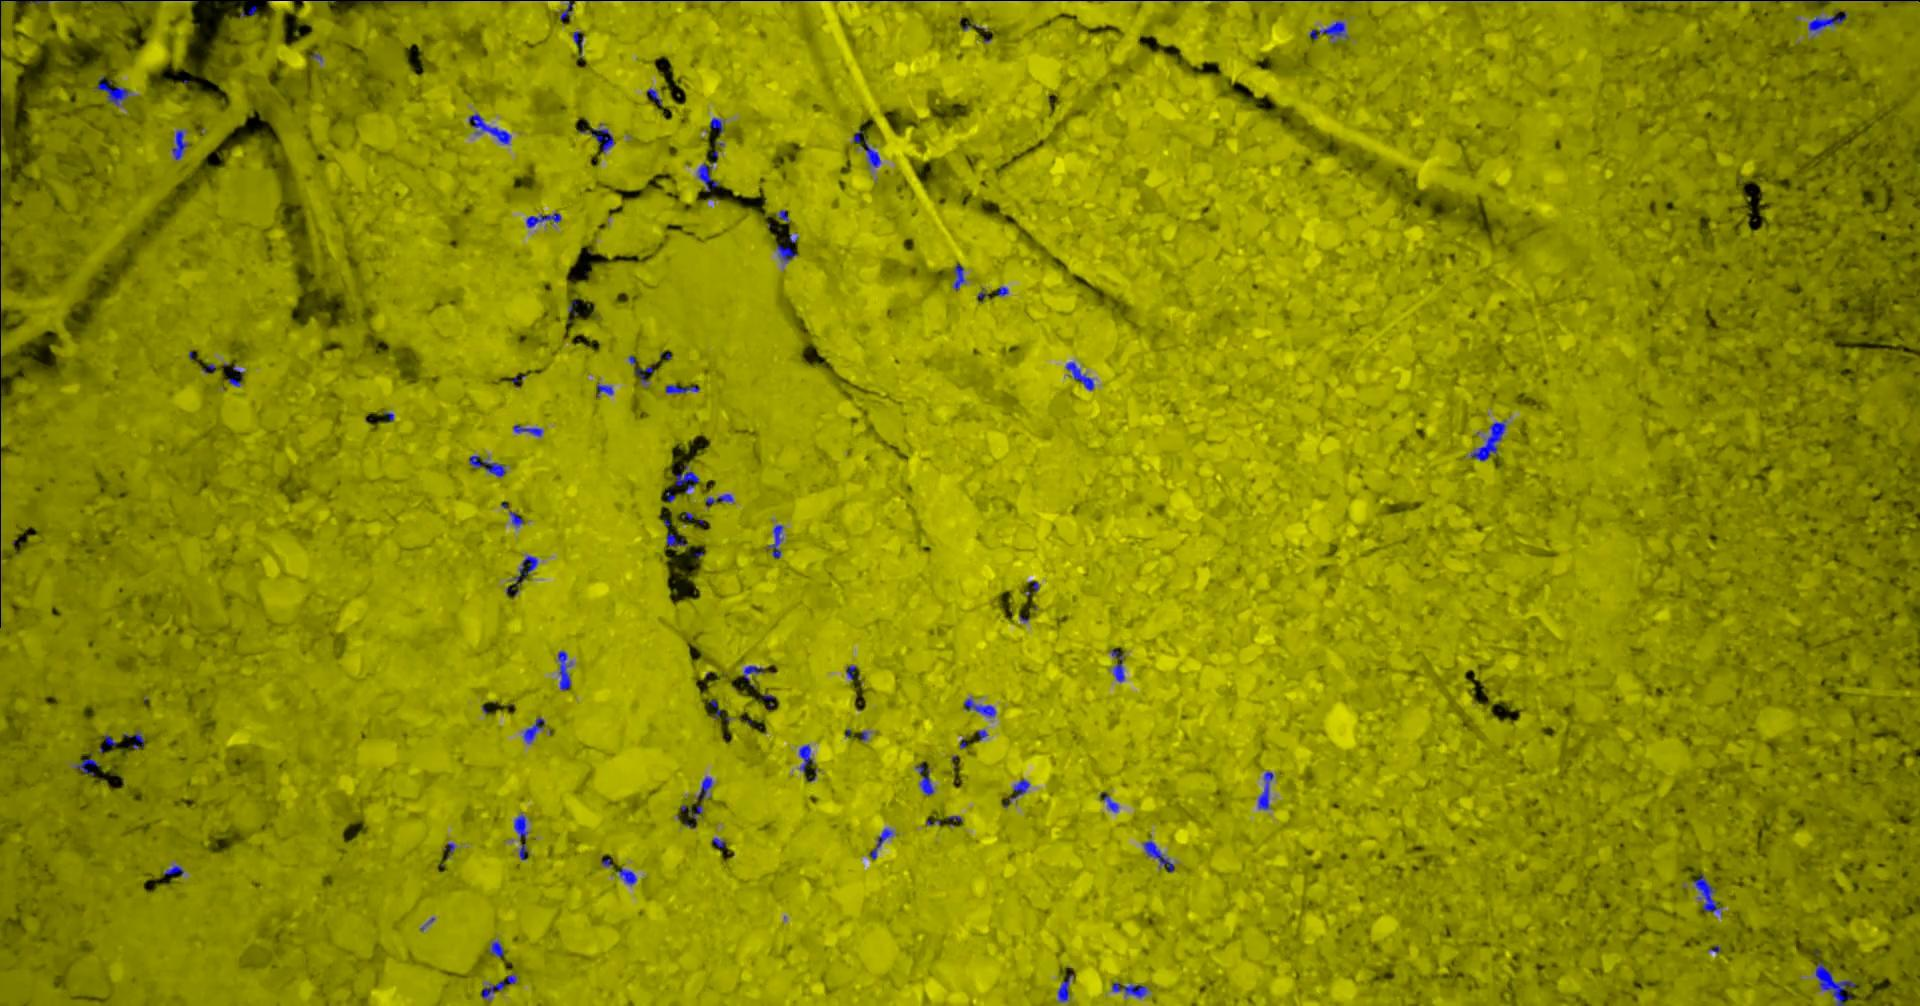ant: (1815, 962, 1854, 1005), (1469, 419, 1505, 460), (469, 113, 510, 144), (505, 555, 537, 594), (1691, 873, 1719, 912), (1142, 840, 1175, 873), (94, 75, 130, 105), (579, 123, 615, 152), (852, 130, 880, 166), (481, 973, 516, 1000), (1808, 9, 1848, 32), (469, 455, 505, 478), (1065, 361, 1093, 390), (1309, 22, 1349, 39), (870, 828, 893, 859), (674, 464, 698, 492), (697, 163, 719, 191), (766, 525, 783, 558), (963, 699, 996, 716), (1257, 771, 1272, 809), (916, 763, 933, 795), (557, 650, 571, 690), (524, 212, 560, 227), (523, 716, 543, 743), (1111, 982, 1147, 997), (171, 130, 188, 159), (1008, 779, 1029, 801), (1057, 973, 1073, 1001), (797, 743, 813, 772), (1110, 650, 1124, 682), (74, 758, 98, 775), (696, 776, 712, 800), (1098, 791, 1117, 812), (632, 366, 653, 384), (123, 730, 143, 748), (776, 244, 797, 260), (705, 493, 733, 506), (513, 814, 527, 840), (512, 424, 542, 436), (617, 868, 636, 885), (665, 533, 686, 550), (742, 666, 763, 681), (952, 263, 964, 290), (681, 804, 702, 818), (665, 384, 698, 392), (559, 0, 574, 19), (229, 366, 243, 386), (488, 940, 503, 956), (596, 384, 613, 398), (709, 117, 723, 133), (509, 511, 523, 526), (163, 865, 183, 875), (844, 666, 858, 680), (571, 30, 582, 46), (361, 0, 430, 1)
